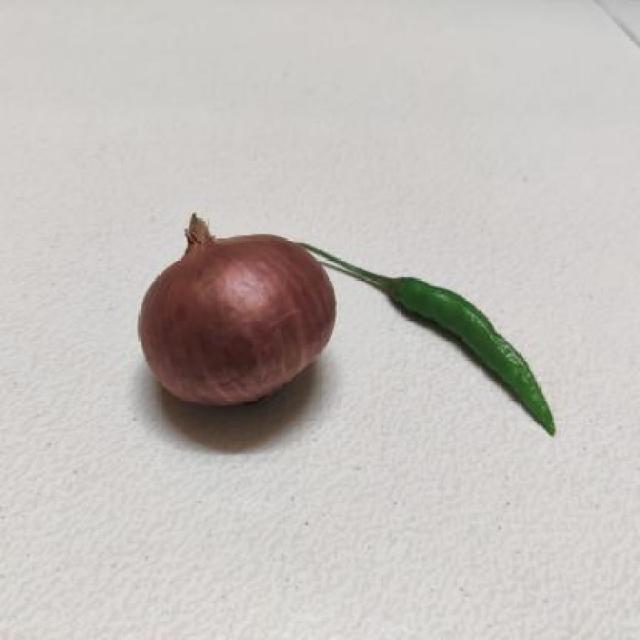Green Chili: (368, 246, 572, 440)
Onion: (119, 192, 328, 430)
